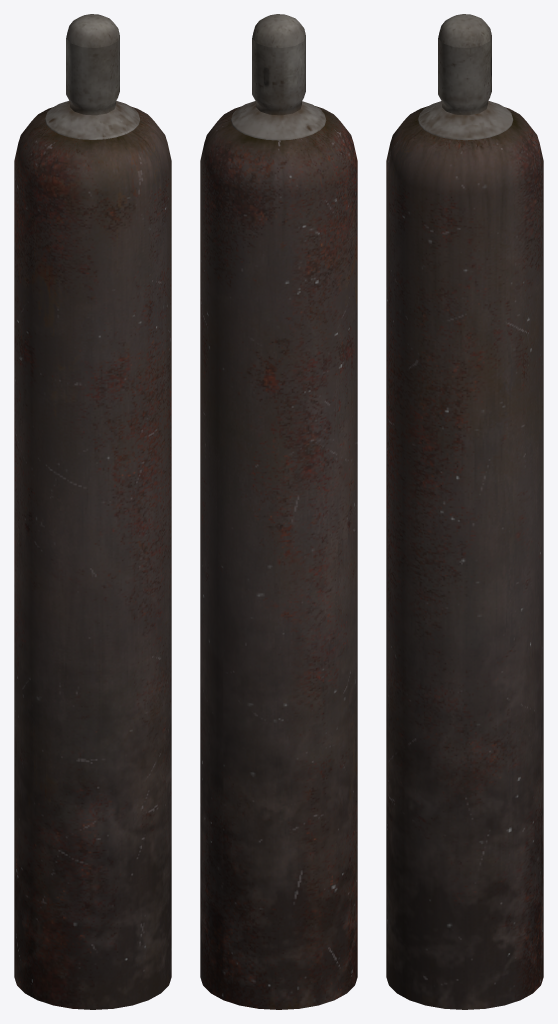
Rendered from WeldingTank_01a_snaps011.fbx.
3 renders of one model, left to right at view 1: azimuth 30°, elevation 25°; view 2: azimuth 150°, elevation 25°; view 3: azimuth 270°, elevation 25°, orthographic.
Visible parts, largest first — view 1: WeldingTank_01a_snaps011_LOD0; view 2: WeldingTank_01a_snaps011_LOD0; view 3: WeldingTank_01a_snaps011_LOD0.
Boxes of the visible parts, x1=… form: WeldingTank_01a_snaps011_LOD0: x1=14, y1=14, x2=171, y2=1009; WeldingTank_01a_snaps011_LOD0: x1=200, y1=14, x2=357, y2=1009; WeldingTank_01a_snaps011_LOD0: x1=386, y1=14, x2=543, y2=1009.
Size of what is drawn, in the model's own units: 19 by 127 by 19.
